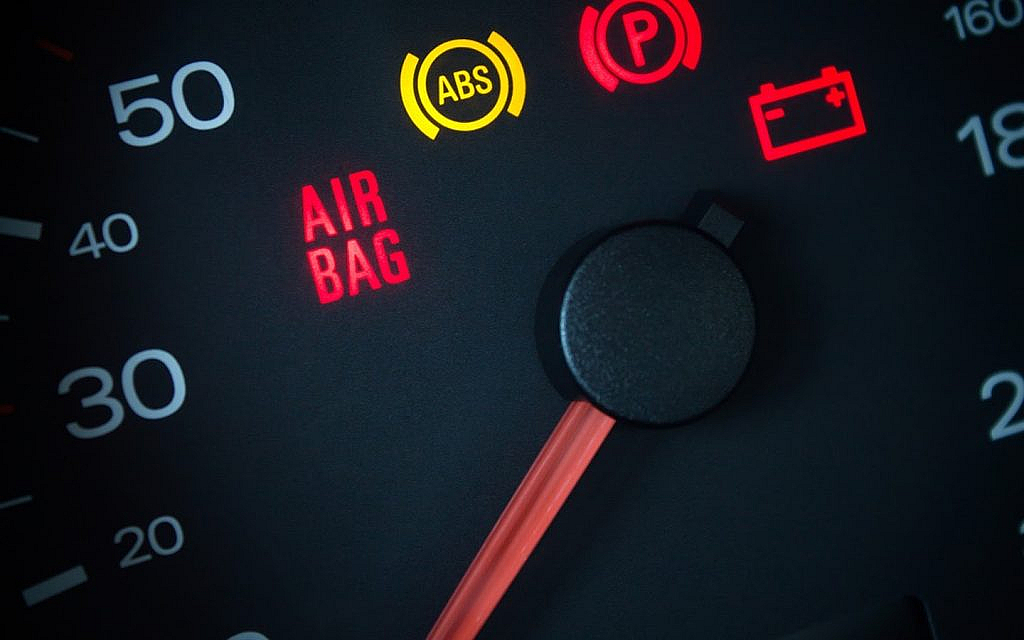ABS: (389, 24, 535, 144)
